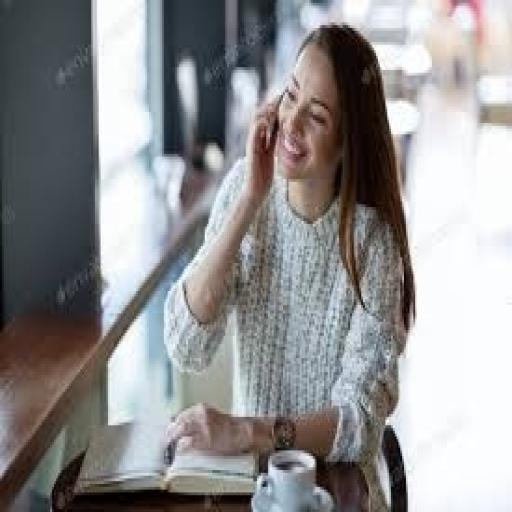calling: (160, 20, 417, 509)
